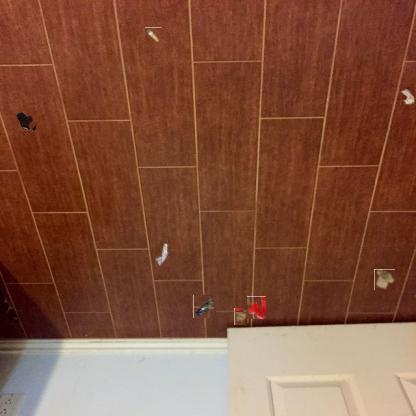dirty: (193, 295, 215, 318), (374, 269, 395, 290), (156, 243, 172, 267), (399, 86, 415, 106), (146, 27, 162, 42), (234, 309, 249, 324)
liquid: (15, 109, 38, 131), (246, 296, 266, 319)
